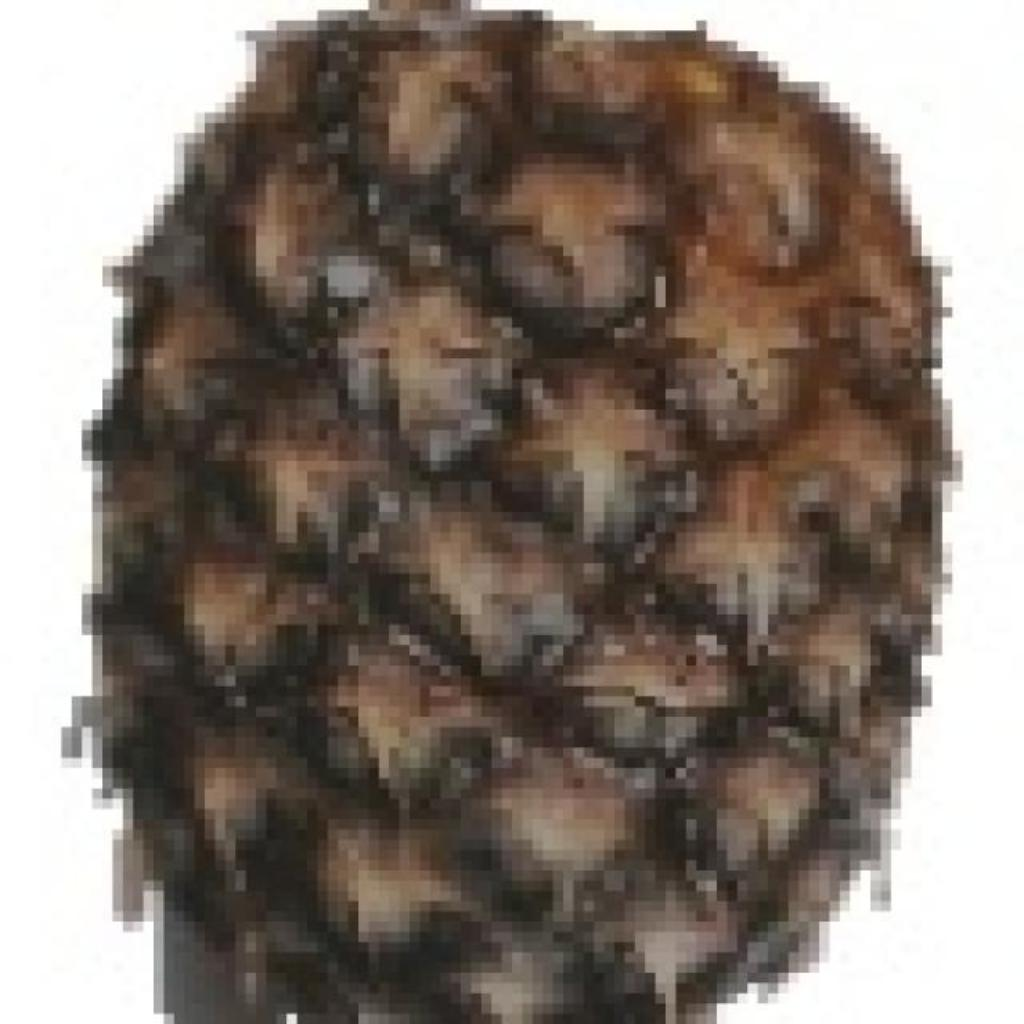pineapple: (76, 0, 952, 1024)
